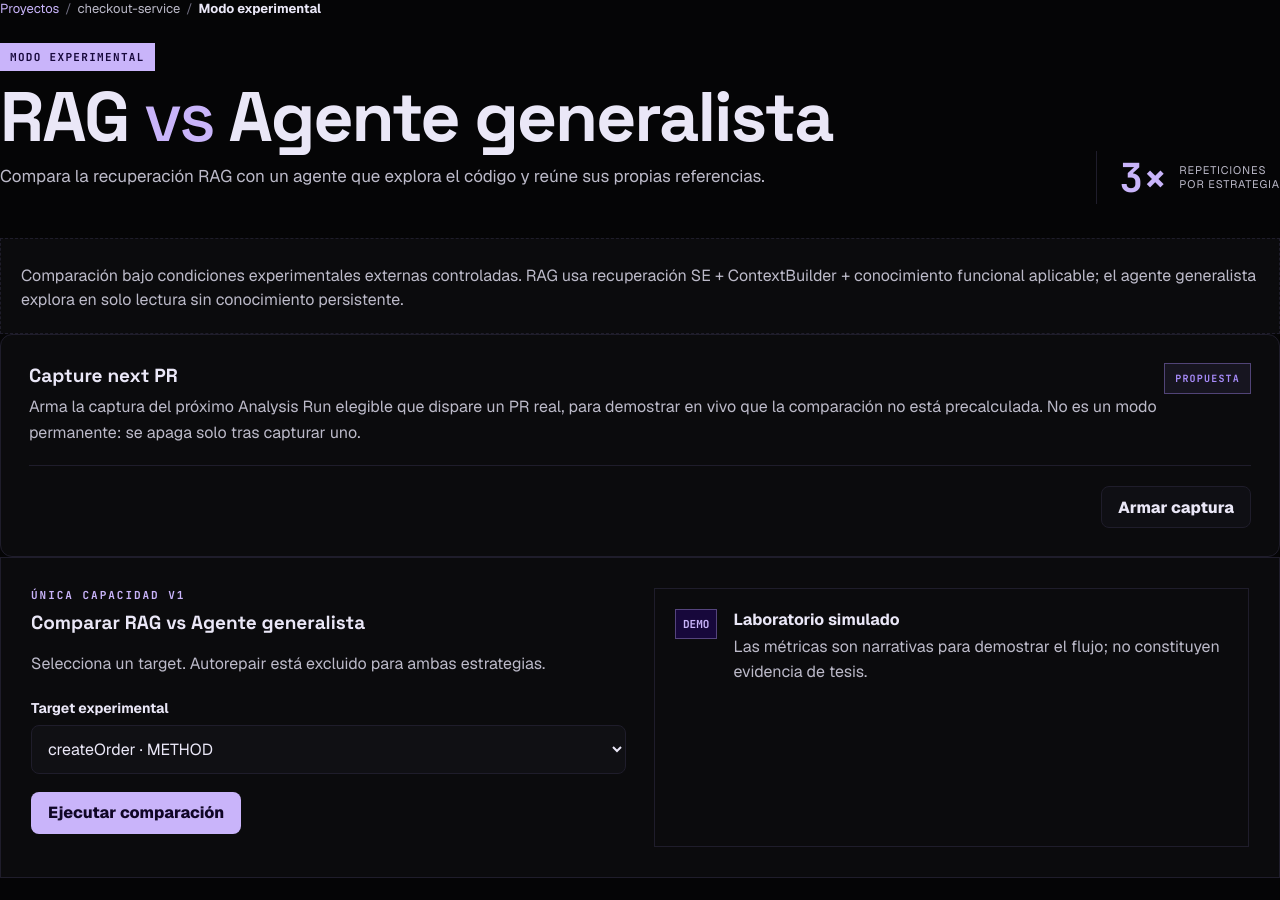
Scenario: FAILED visible: role alert con el copy de EXPERIMENT_WORKER_LOST, sin «Preparando experimento» y con el detalle y el rótulo DEMO
Click the button "Ejecutar comparación". click: (136, 813)
box: [31,792,241,834]
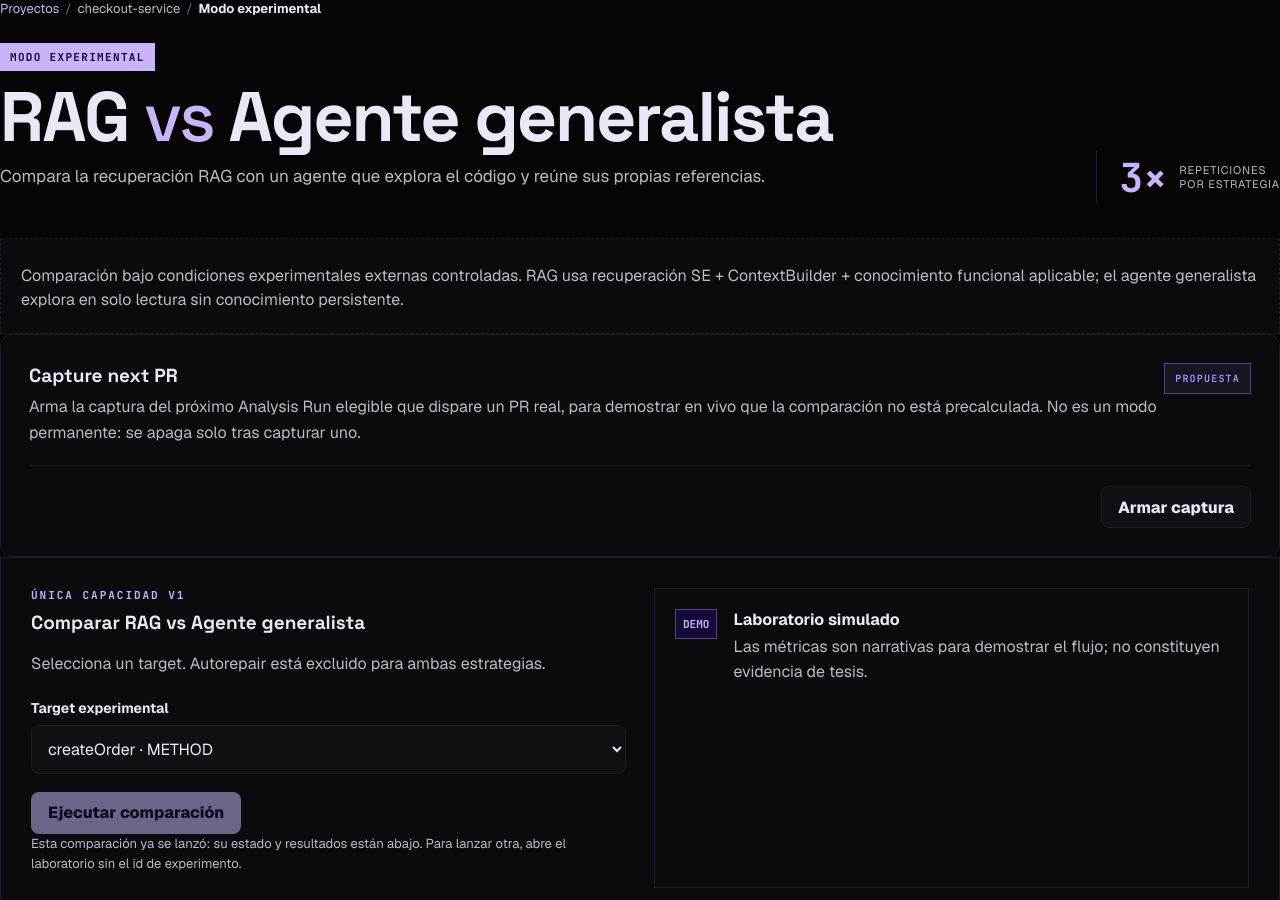
Now the message with id "experiment-run-note" shows "ya se lanzó", box [31,835,566,872]
